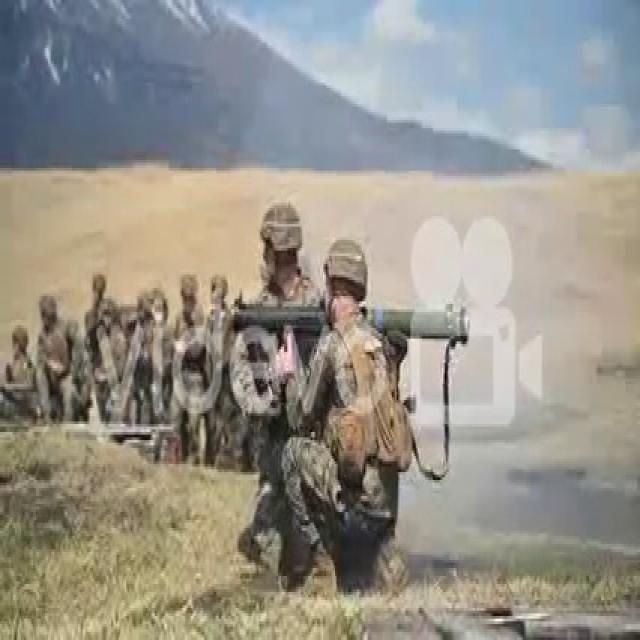bazooka: (226, 283, 474, 354)
